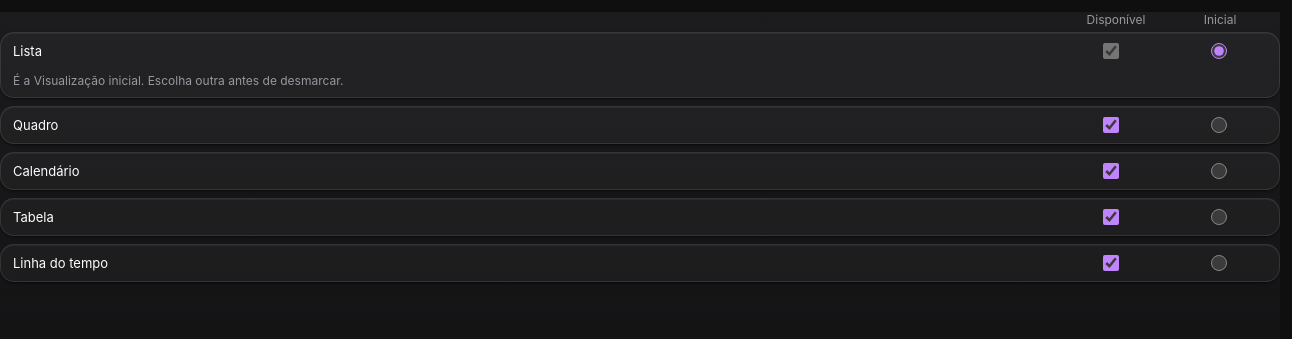
Test: EditorDeVisualizacoesPadrao — o Espaço (EST-08) › escolher Quadro como inicial grava `inicial: quadro` e libera a caixa da Lista
Step 1. Click the radio button named "Inicial: Quadro" → (1219, 125), box [1211, 117, 1227, 133]
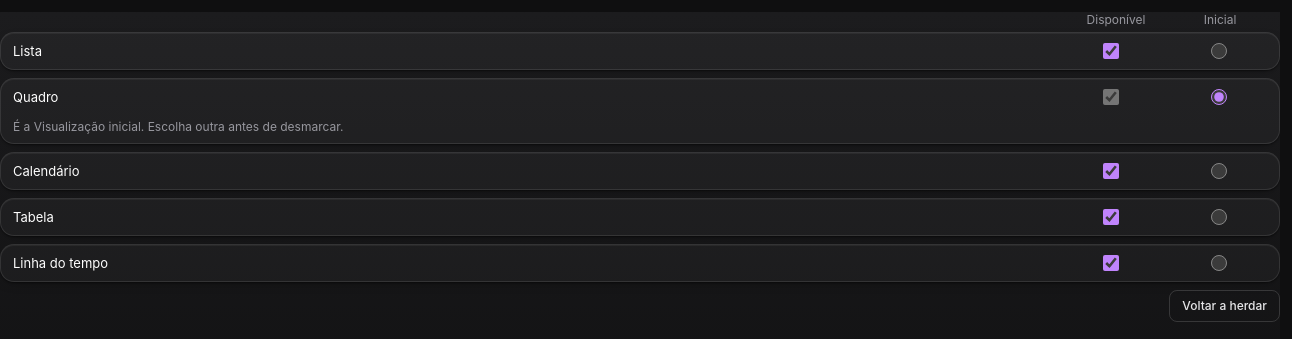
Now the checkbox labelled "Quadro" is disabled, box [1103, 89, 1119, 105]
Now the checkbox labelled "Lista" is enabled, box [1103, 43, 1119, 59]
